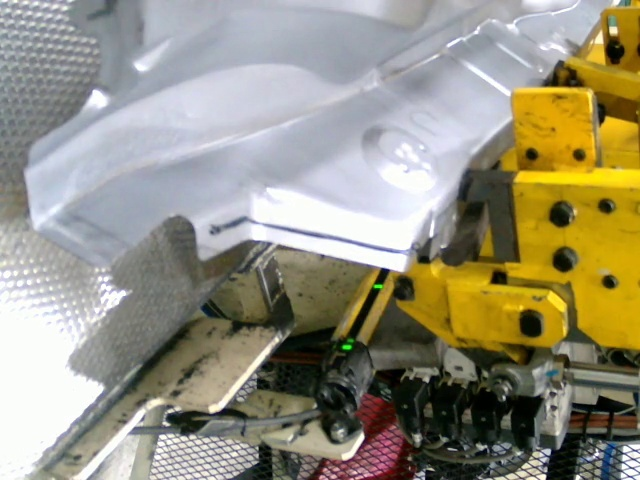line: (206, 212, 424, 258)
